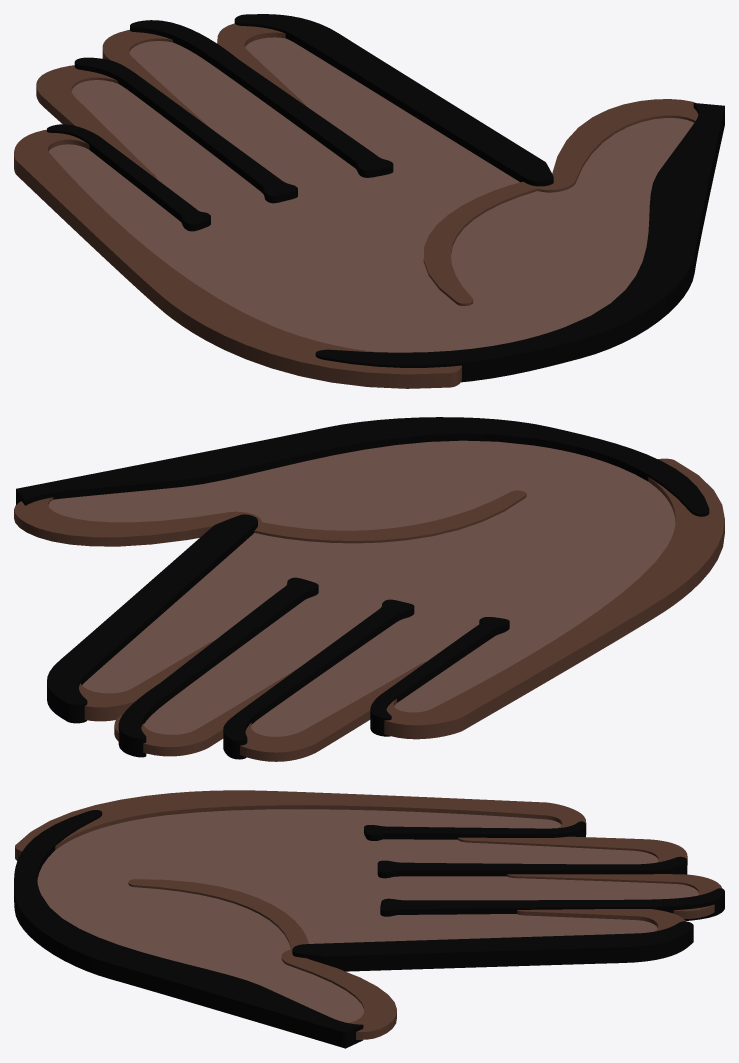
Rendered from emoji_u270b_1f3ff.glb.
3 views of the same model, one above another, from view 1: azimuth 30°, elevation 25°; view 2: azimuth 150°, elevation 25°; view 3: azimuth 270°, elevation 25° (orthographic). The views are drawn at different scales.
Visible parts, largest first — view 1: emoji_u270b_1f3ff; view 2: emoji_u270b_1f3ff; view 3: emoji_u270b_1f3ff.
Boxes of the visible parts, x1,y1,x2,y2 form: emoji_u270b_1f3ff: (14, 14, 724, 388); emoji_u270b_1f3ff: (14, 417, 724, 761); emoji_u270b_1f3ff: (14, 790, 724, 1048).
Size of the model in its own units: 0.0269 by 0.0008 by 0.033.
